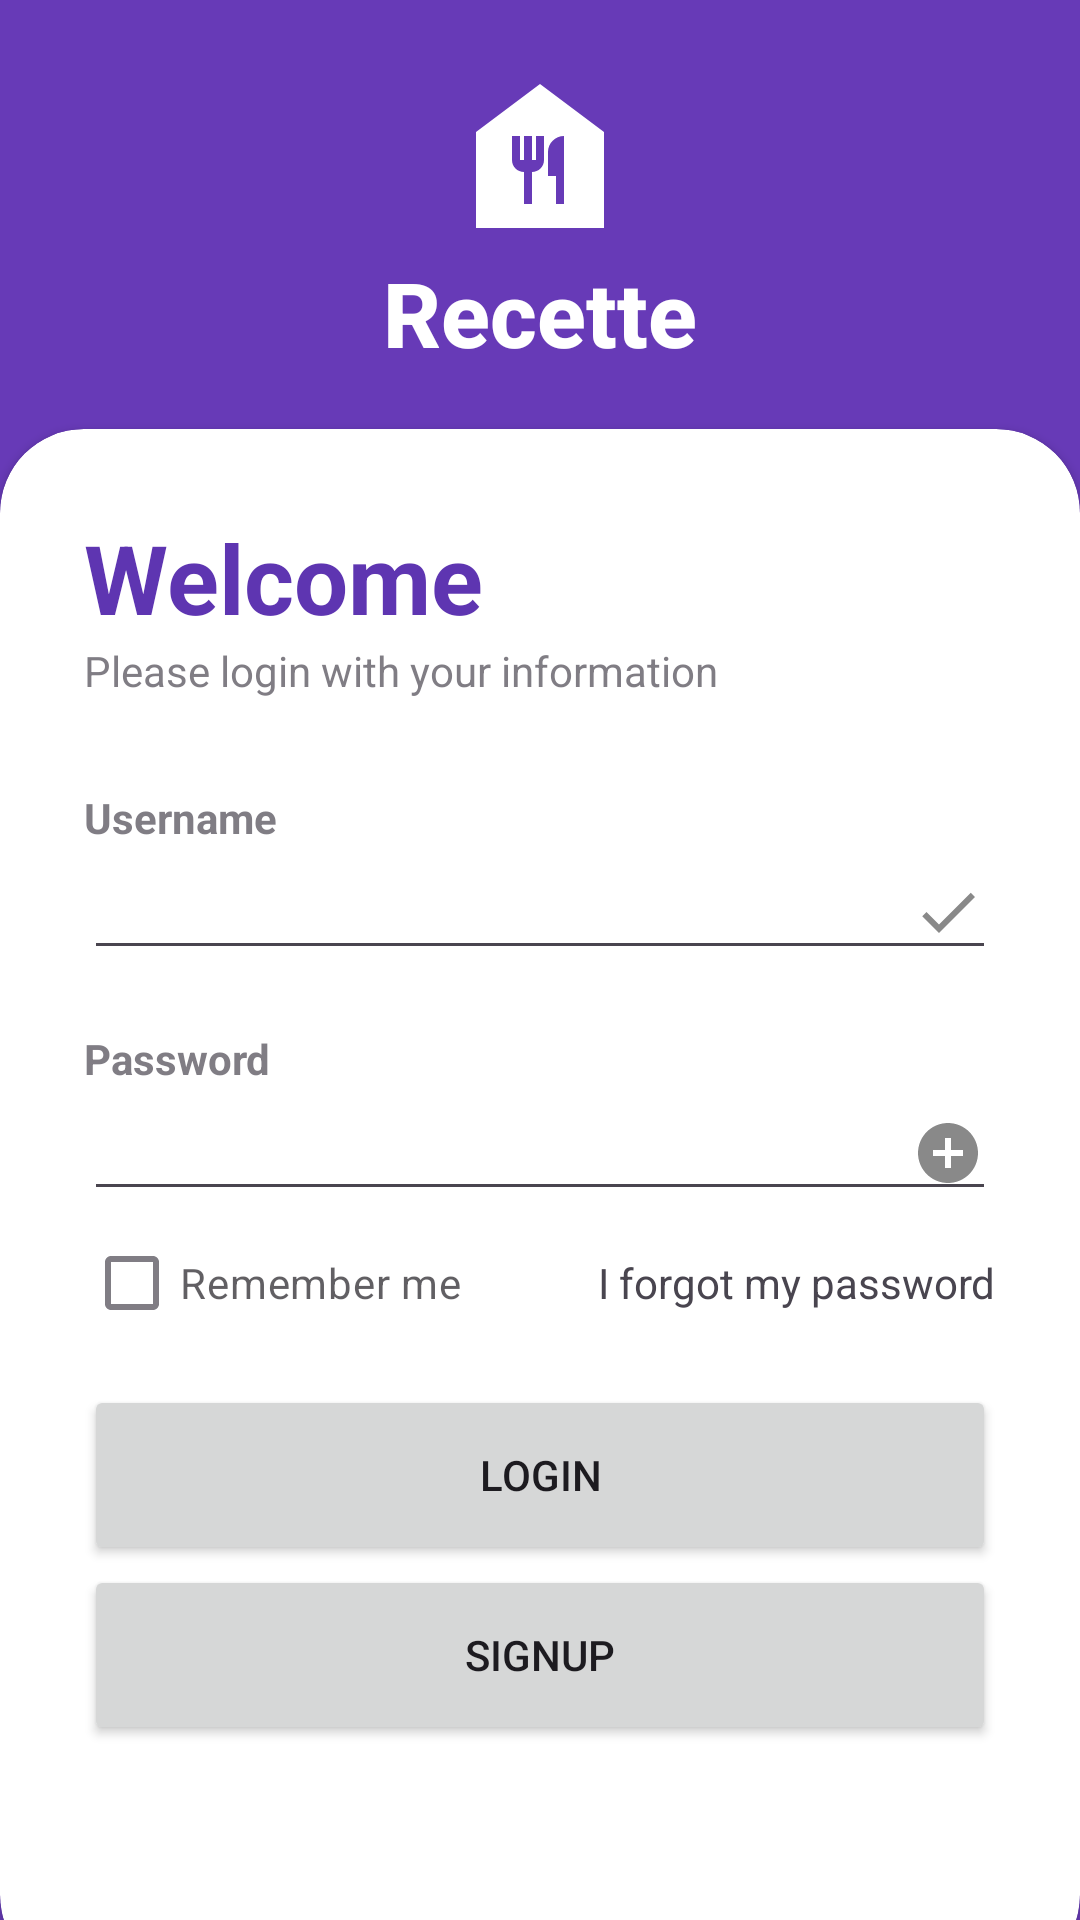

Locate icon controls on the screen. Image size 1080w x 1920h, boxes as (x1, y1, x2, y2).
food: (476, 84, 604, 228)
